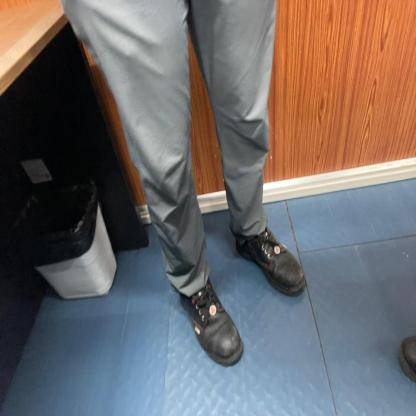bota: (180, 276, 244, 368), (234, 225, 306, 298)
